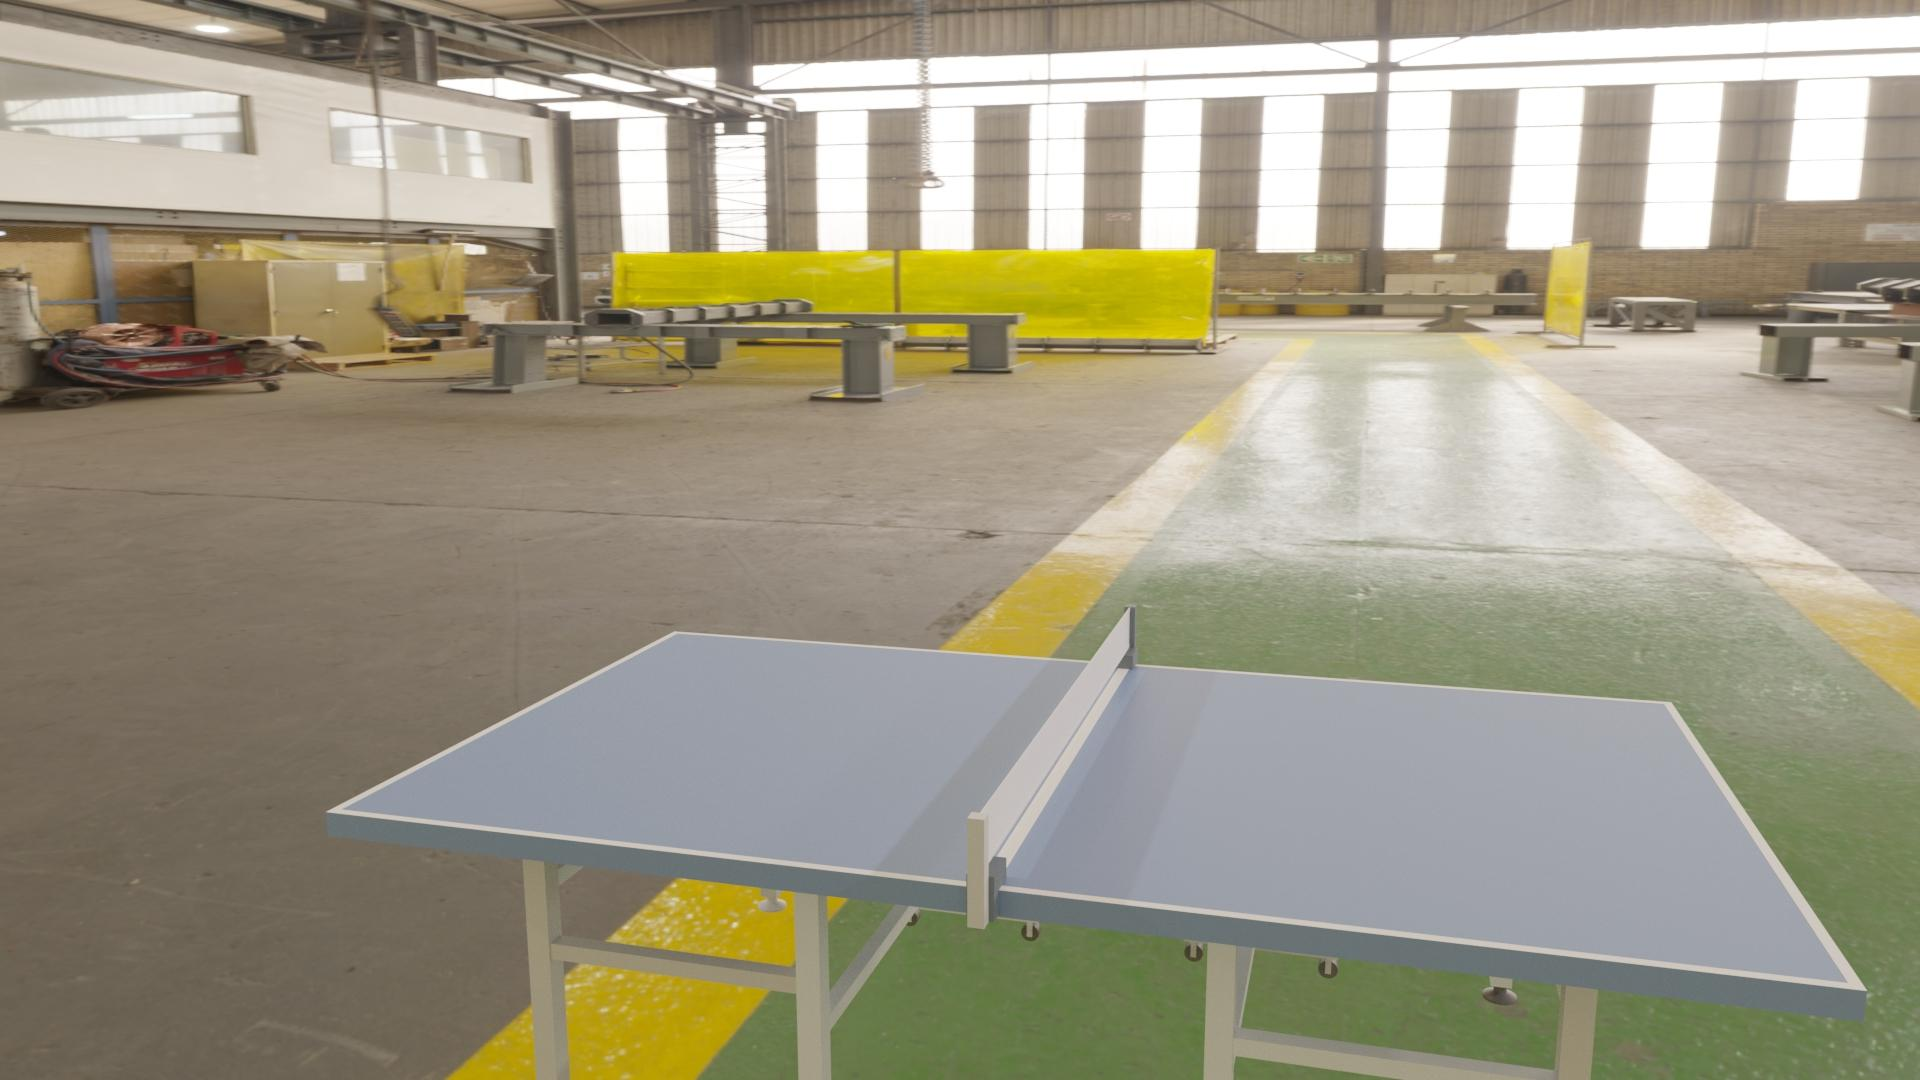table: (342, 633, 1847, 982)
